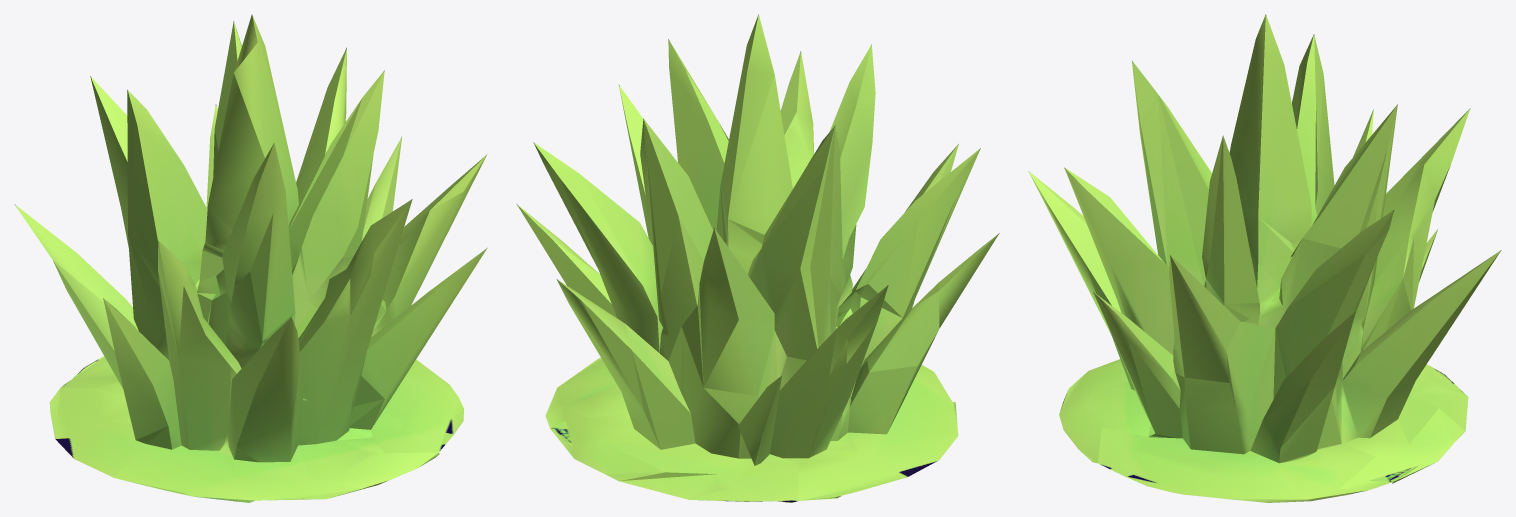
The model's file is grass.glb.
The picture shows the model from 3 angles, left to right: view 1: azimuth 30°, elevation 25°; view 2: azimuth 150°, elevation 25°; view 3: azimuth 270°, elevation 25°; orthographic projection.
Size of the model in its own units: 1.79 by 1.77 by 1.89.
Materials: 1 (1 with a texture image).
